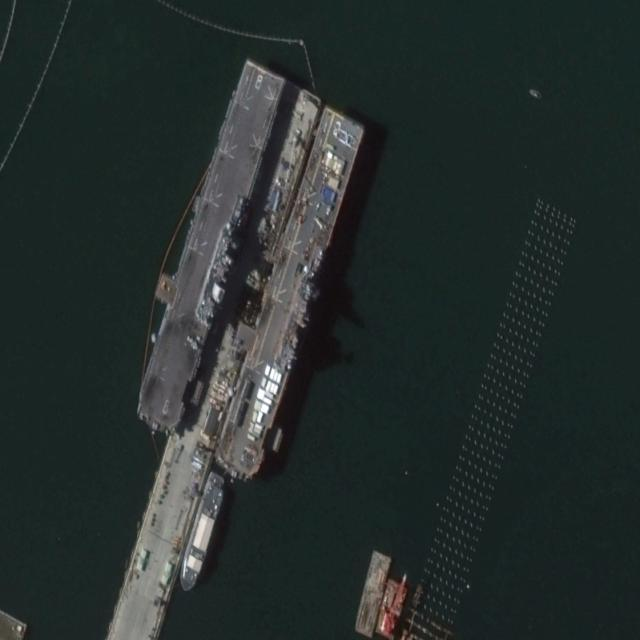Landing: (198, 95, 379, 496), (119, 47, 299, 446)
Other Ship: (175, 468, 227, 596)
